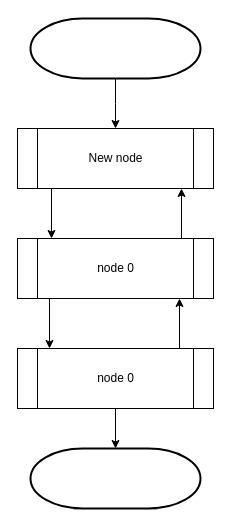
Image size: 231x526. Some labels were removed from this diagram. The shapes that lost their labels are listed below. From the top down, each one's box as (x1, y1, x2, y2) in pixels, then its label:
(29, 17, 201, 79): เริ่ม Add node
(29, 447, 201, 509): จบ
